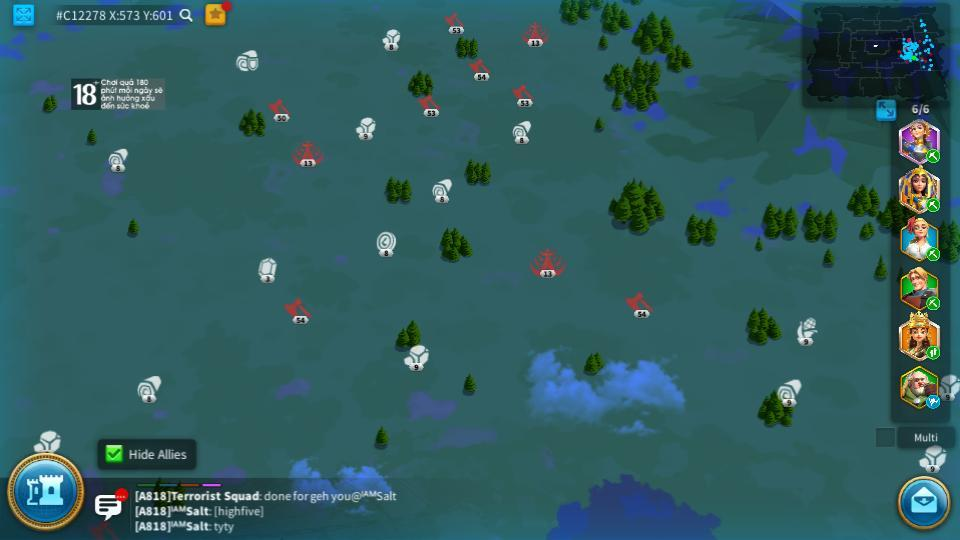gem-z-out: (258, 258, 277, 281)
march_farming: (923, 197, 940, 212), (925, 149, 941, 162)
march_idle: (925, 396, 942, 408)
march_marching: (925, 345, 941, 359), (925, 297, 941, 308)
